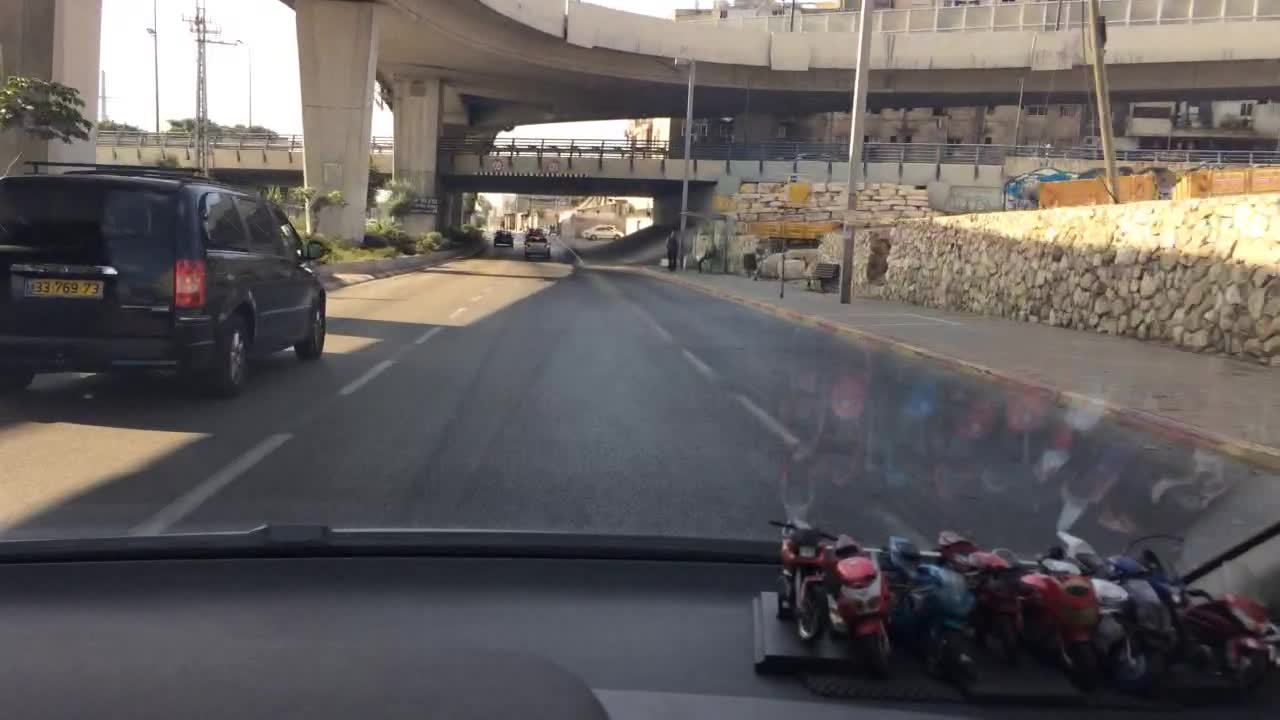car: (1, 159, 332, 396), (522, 233, 551, 261), (580, 223, 624, 241), (491, 227, 514, 247)
person: (696, 238, 717, 274), (665, 230, 679, 271)
